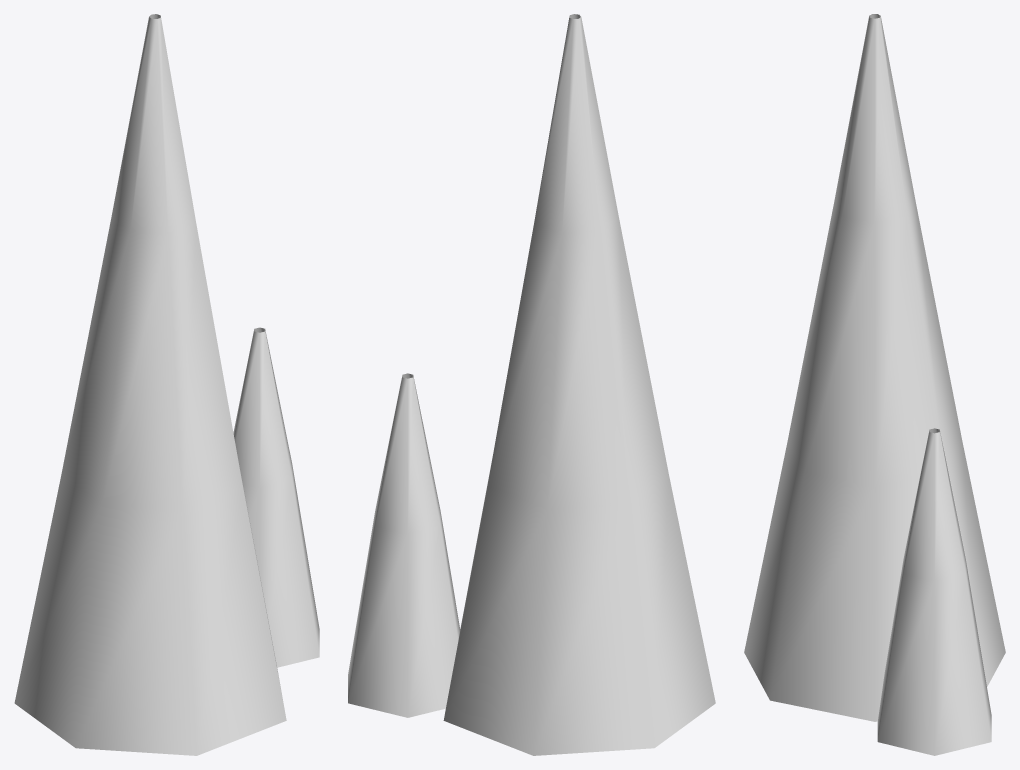
Rendered from stalagmite.glb.
3 views of the same model, side by side, from view 1: azimuth 30°, elevation 25°; view 2: azimuth 150°, elevation 25°; view 3: azimuth 270°, elevation 25° (orthographic). The views are drawn at different scales.
Parts seen in each view (by area): view 1: Stalagmite; view 2: Stalagmite; view 3: Stalagmite.
Part boxes in pixels (x1,y1,x2,y2): Stalagmite: [14, 14, 319, 755]; Stalagmite: [348, 14, 715, 755]; Stalagmite: [744, 14, 1005, 755].
Size of the model in its own units: 1.13 by 2.4 by 0.8774.
1 material, 1 textured.
